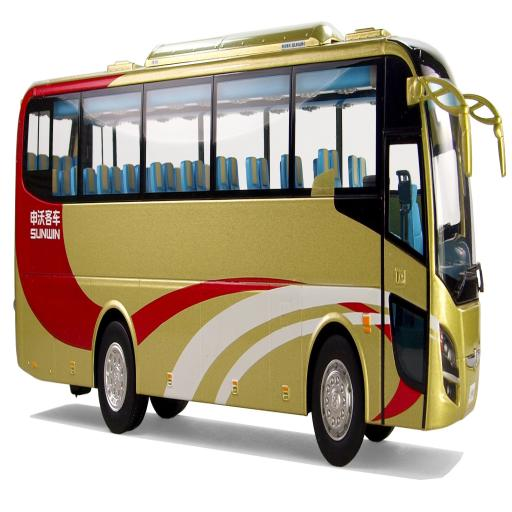bus: (15, 23, 505, 465)
